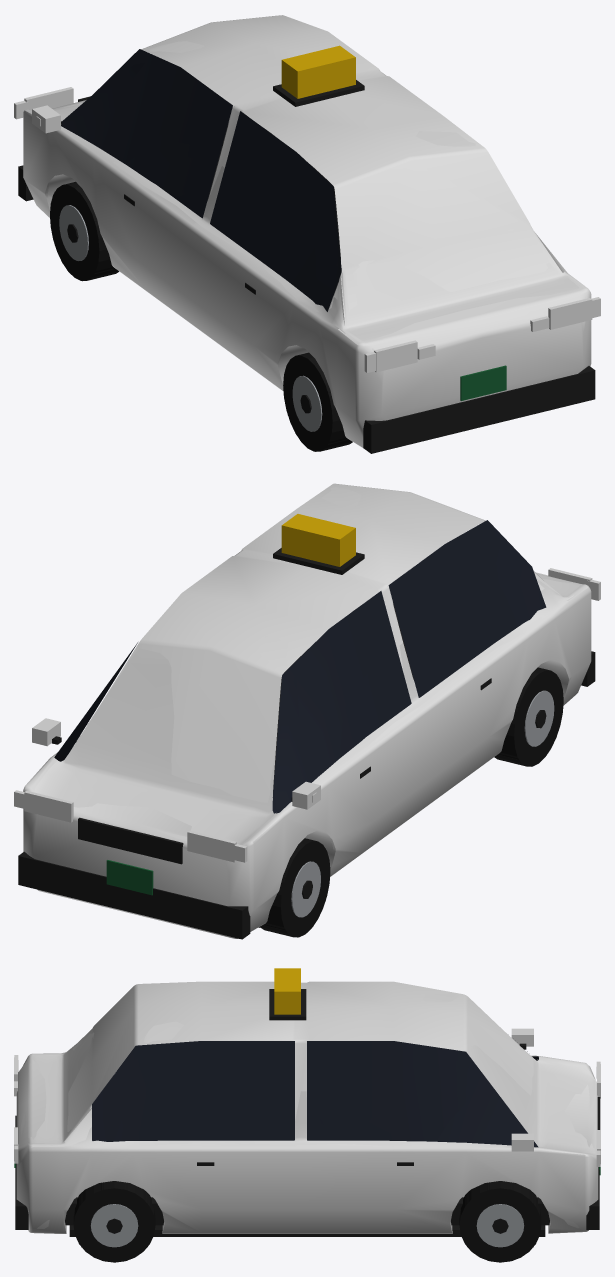
File: taxi.glb
3 views of the same model, one above another, from view 1: azimuth 30°, elevation 25°; view 2: azimuth 150°, elevation 25°; view 3: azimuth 270°, elevation 25° (orthographic). The views are drawn at different scales.
Parts seen in each view (by area): view 1: body_1, detail_0, detail_1, body_0, light_tail_0_7, light_tail_0_1, light_head_0_0; view 2: body_1, detail_0, body_0, detail_1, light_head_0_6, light_head_0_0; view 3: body_1, detail_0, detail_1, body_0.
Part boxes in pixels (box(x1,y1,x2,y2)): body_1: box(23, 15, 591, 447); detail_0: box(18, 45, 595, 453); detail_1: box(50, 49, 348, 451); body_0: box(32, 41, 581, 383); light_tail_0_7: box(548, 298, 592, 329); light_tail_0_1: box(374, 340, 417, 372); light_head_0_0: box(24, 87, 73, 109); body_1: box(23, 483, 591, 938); detail_0: box(18, 514, 595, 939); body_0: box(32, 487, 582, 868); detail_1: box(54, 520, 563, 937); light_head_0_6: box(24, 790, 73, 822); light_head_0_0: box(187, 830, 236, 862); body_1: box(16, 981, 598, 1233); detail_0: box(14, 968, 600, 1262); detail_1: box(74, 1041, 540, 1260); body_0: box(20, 993, 595, 1232).
Bounding box in the file's own units: 2 × 1.97 × 4.44.
